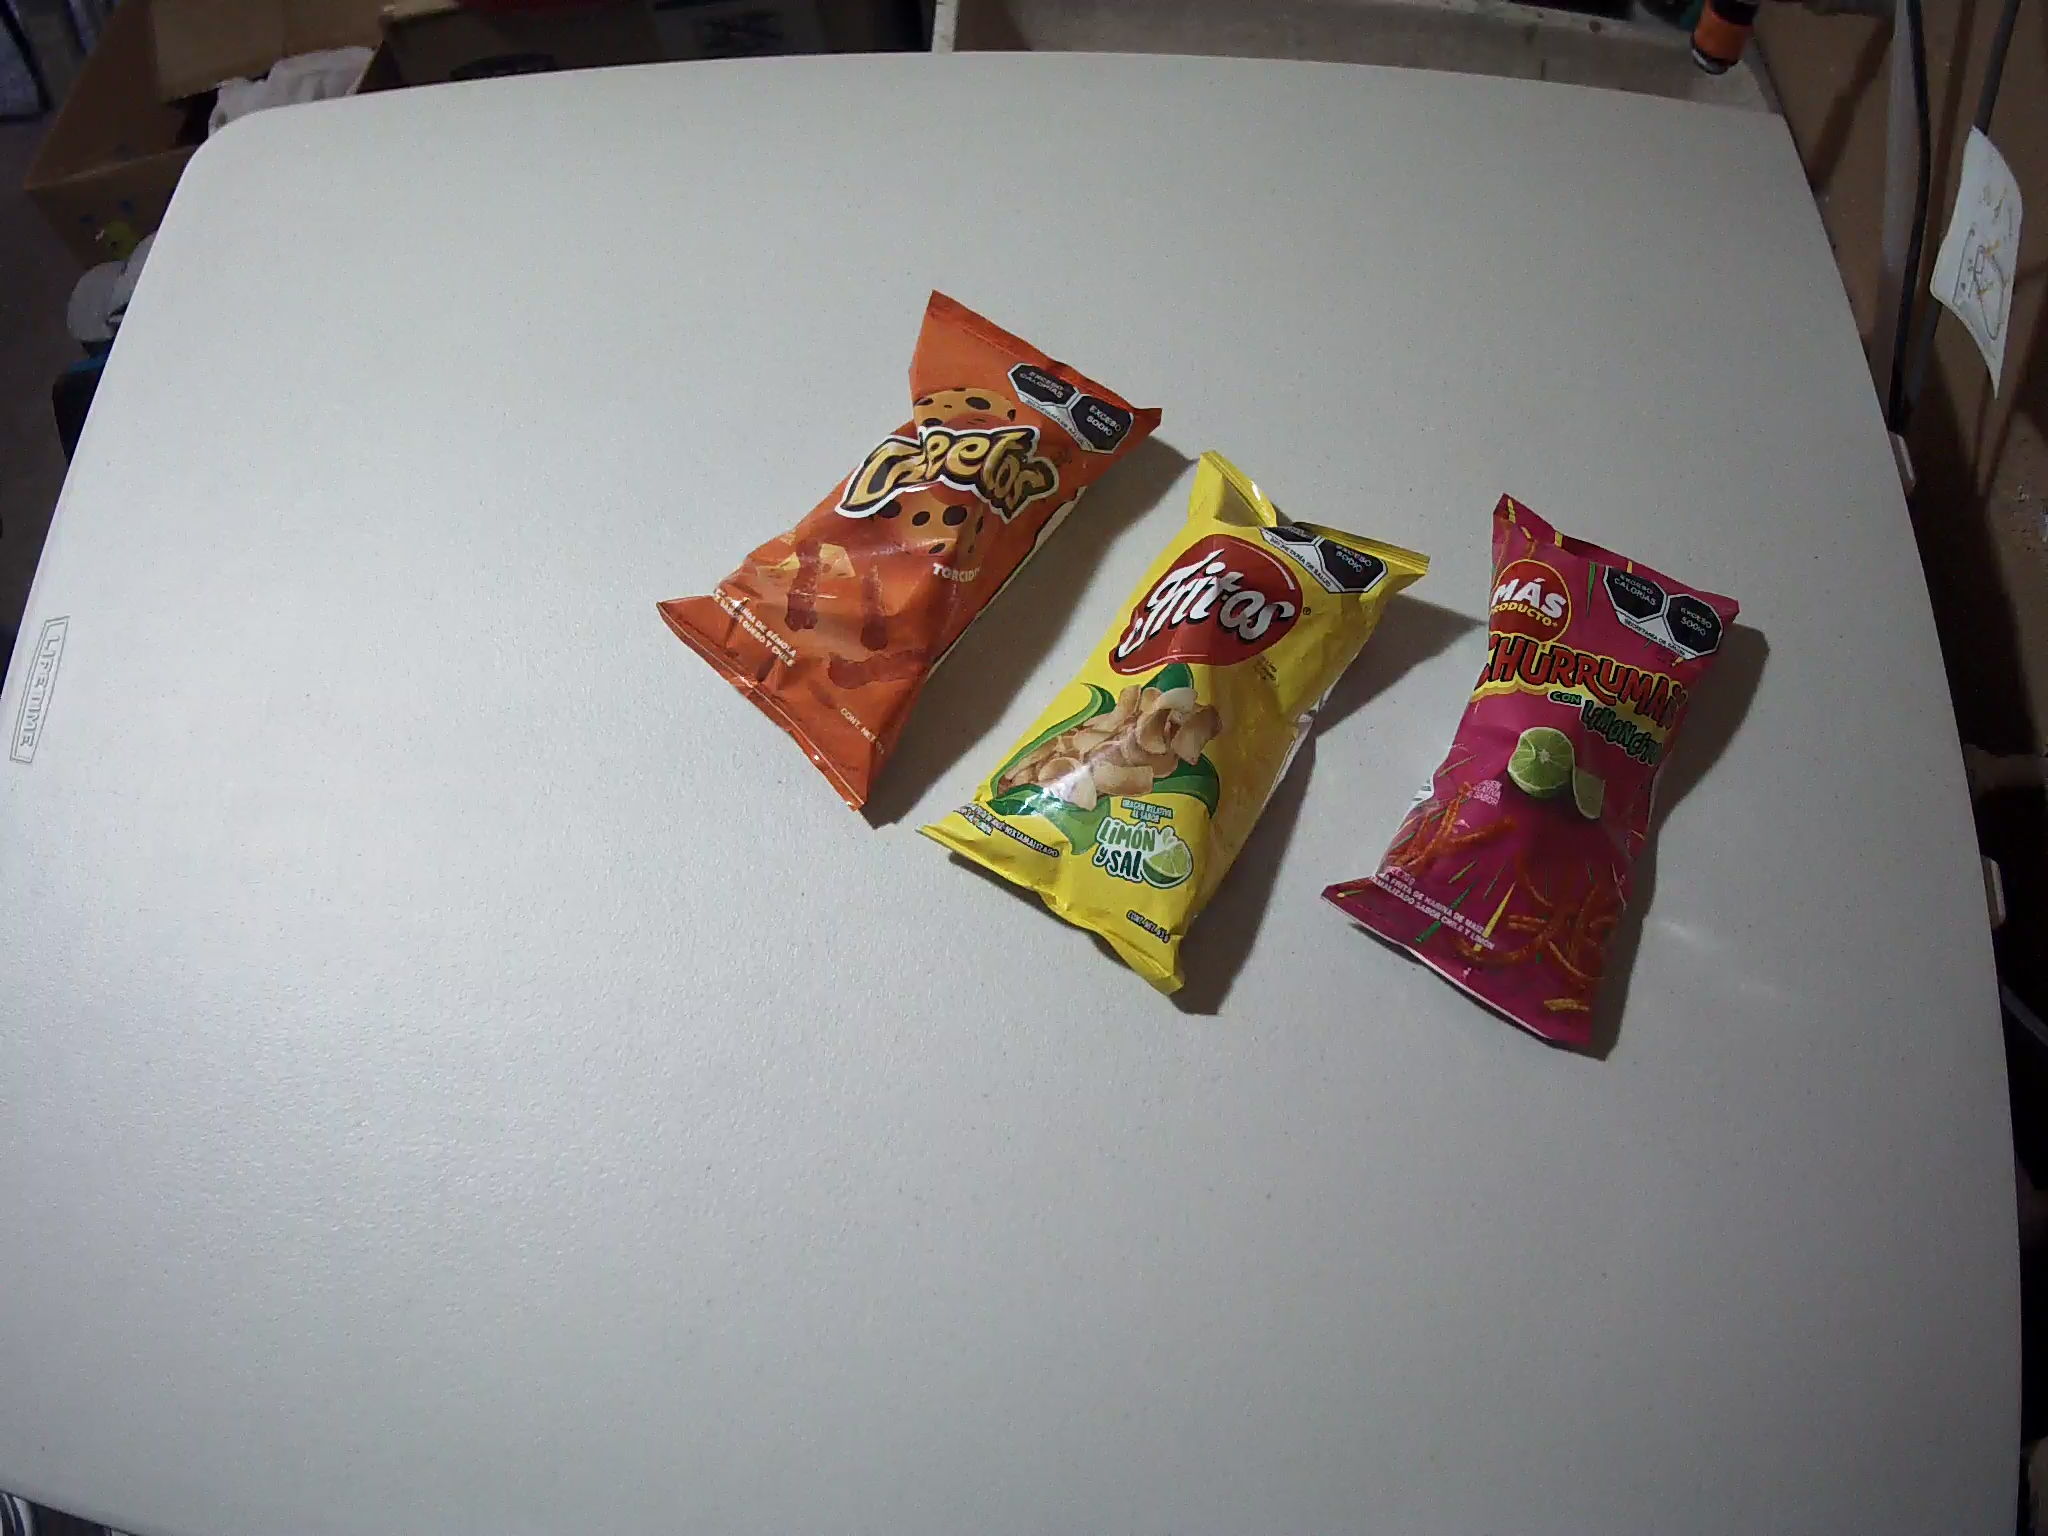CheetosTorciditos_55_F: (655, 287, 1164, 815)
Churrumais_70_F: (1322, 492, 1742, 1055)
FritosSalLimon_65_F: (916, 453, 1432, 999)
